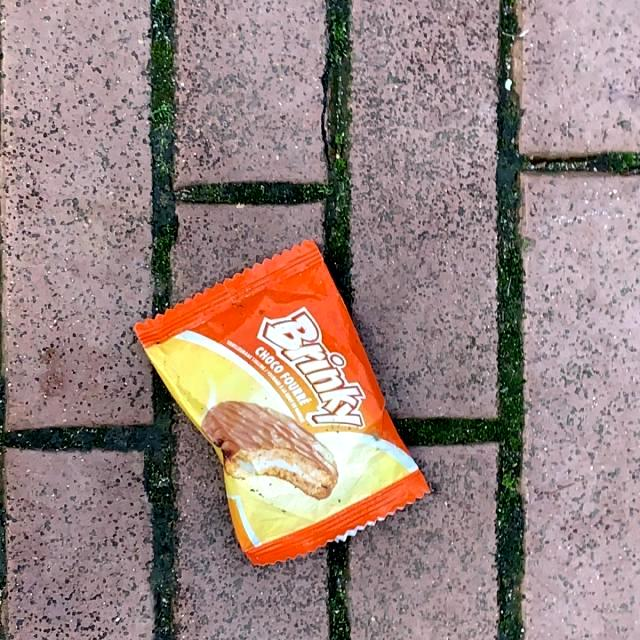Plastic: (130, 235, 436, 572)
